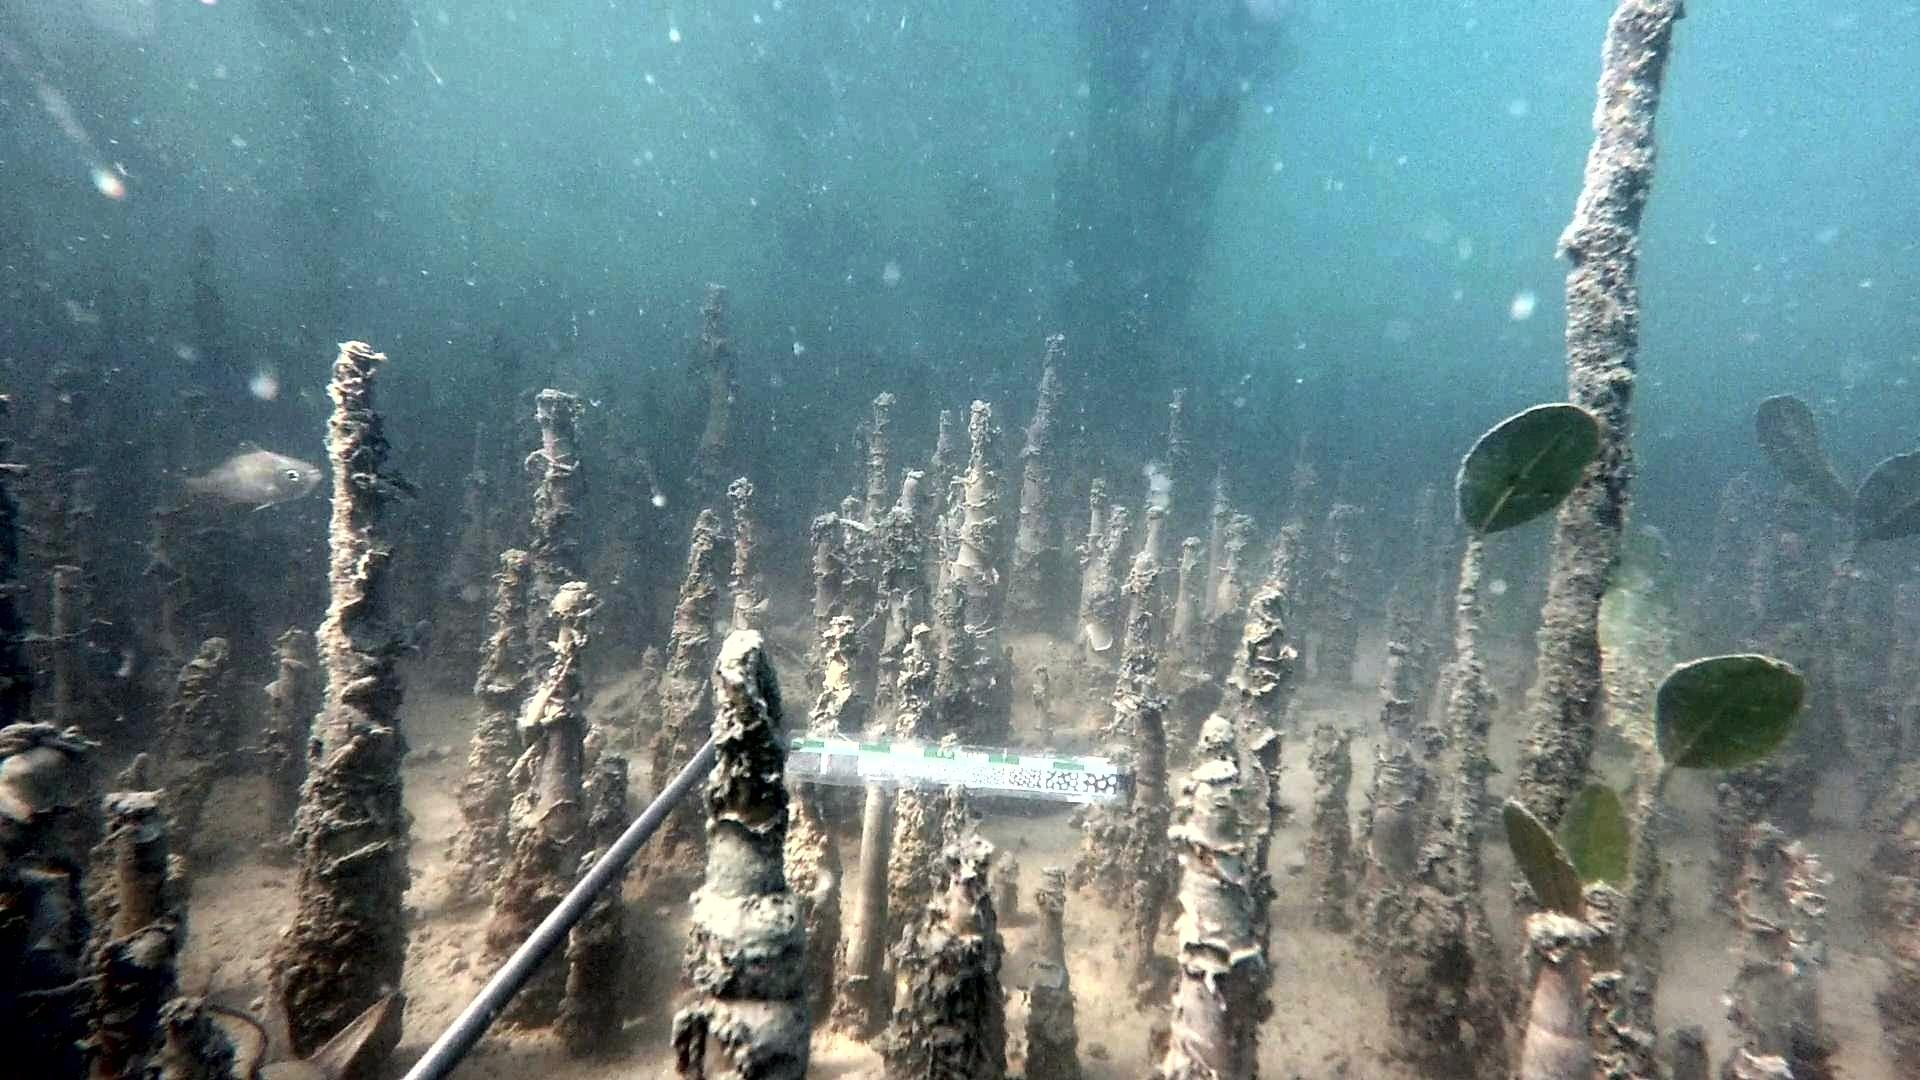gerres: (150, 436, 329, 513)
